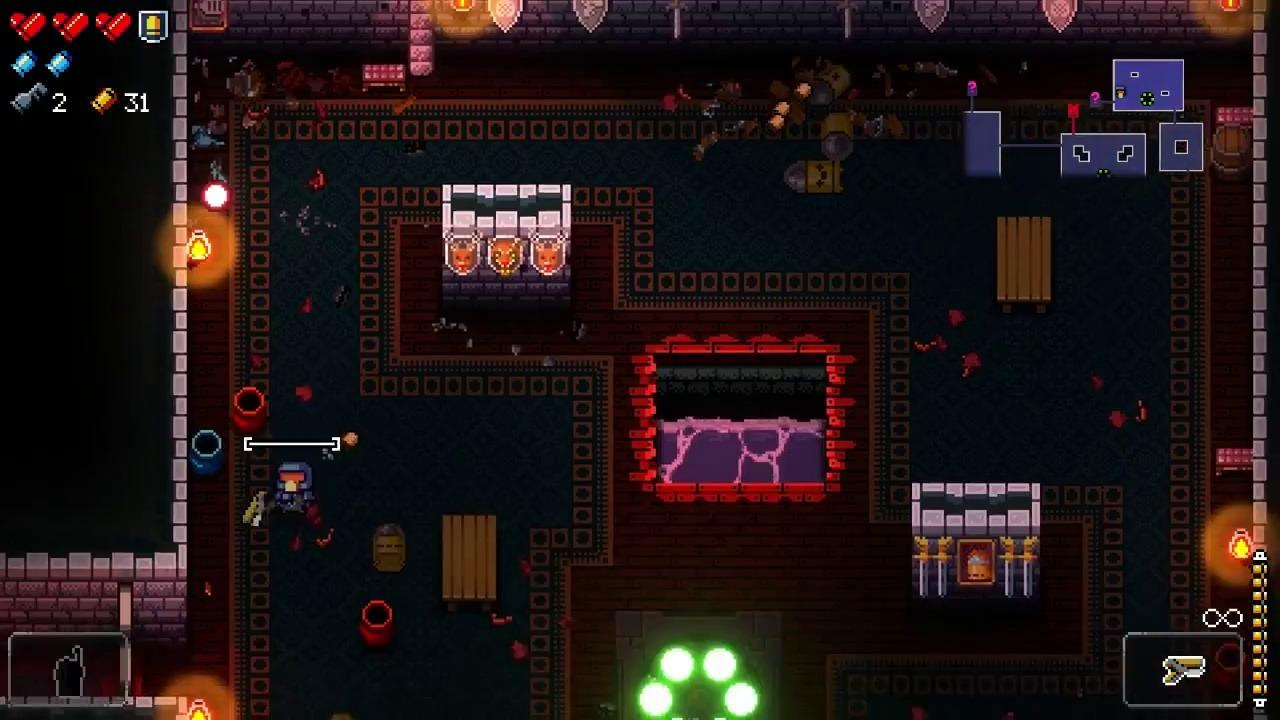dead_bullet_kin: (783, 160, 844, 193), (806, 64, 851, 105), (373, 521, 406, 573), (823, 113, 854, 160)
player: (275, 461, 313, 515)
table: (997, 216, 1051, 313)
teleporter: (616, 611, 783, 720)
unlocked_door: (120, 582, 133, 699)
water_pit: (630, 331, 858, 505)
